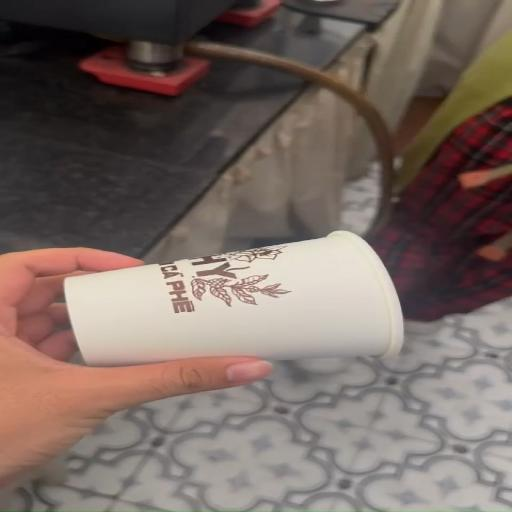Ly_giay: (64, 231, 402, 366)
